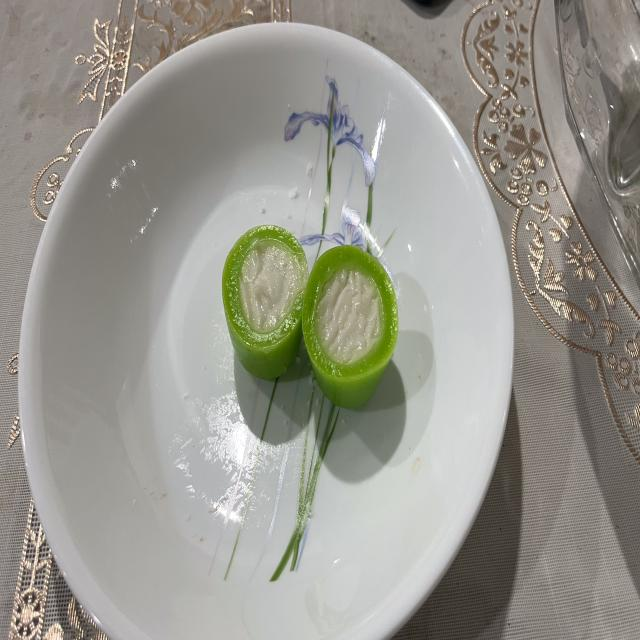nona-manis: (302, 244, 399, 409), (222, 224, 309, 380)
